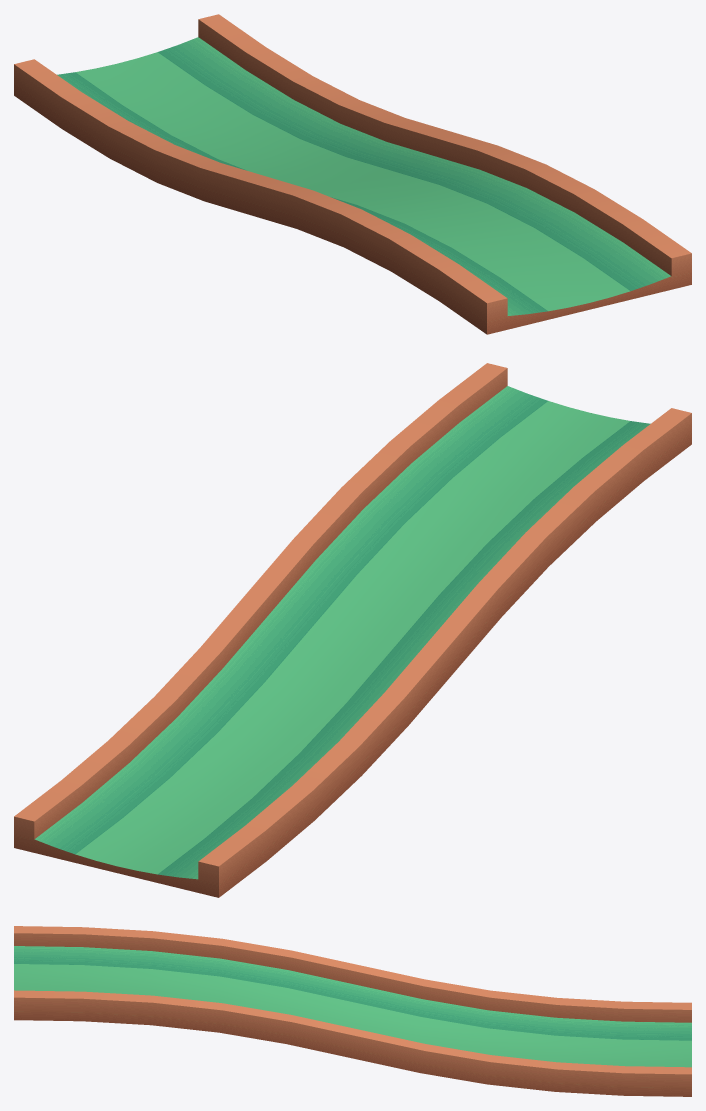
Rendered from spline-concave-straight-hill-complete-half.glb.
The picture shows the model from 3 angles, top to bottom: view 1: azimuth 30°, elevation 25°; view 2: azimuth 150°, elevation 25°; view 3: azimuth 270°, elevation 25°; orthographic projection. The views are drawn at different scales.
Parts seen in each view (by area): view 1: spline-concave-straight-hill-complete-half; view 2: spline-concave-straight-hill-complete-half; view 3: spline-concave-straight-hill-complete-half.
Part boxes in pixels (x1,y1,x2,y2): spline-concave-straight-hill-complete-half: (14, 14, 691, 334); spline-concave-straight-hill-complete-half: (14, 363, 691, 897); spline-concave-straight-hill-complete-half: (14, 926, 691, 1096).
Bounding box in the file's own units: 0.9999 × 0.6467 × 4.
Materials: 1 (1 with a texture image).
